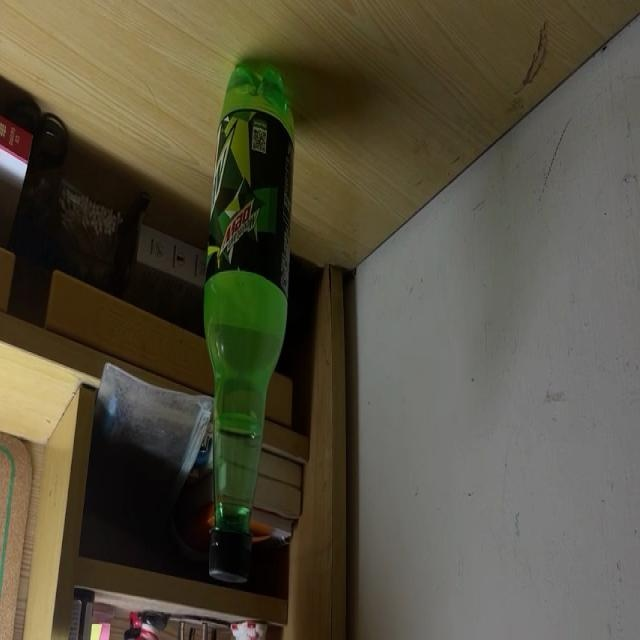Mountain-Dew: (201, 58, 298, 586)
